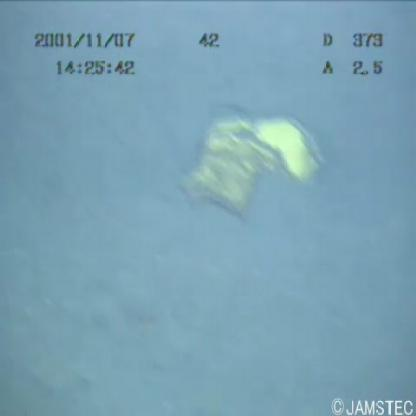Rác: (176, 90, 324, 221)
